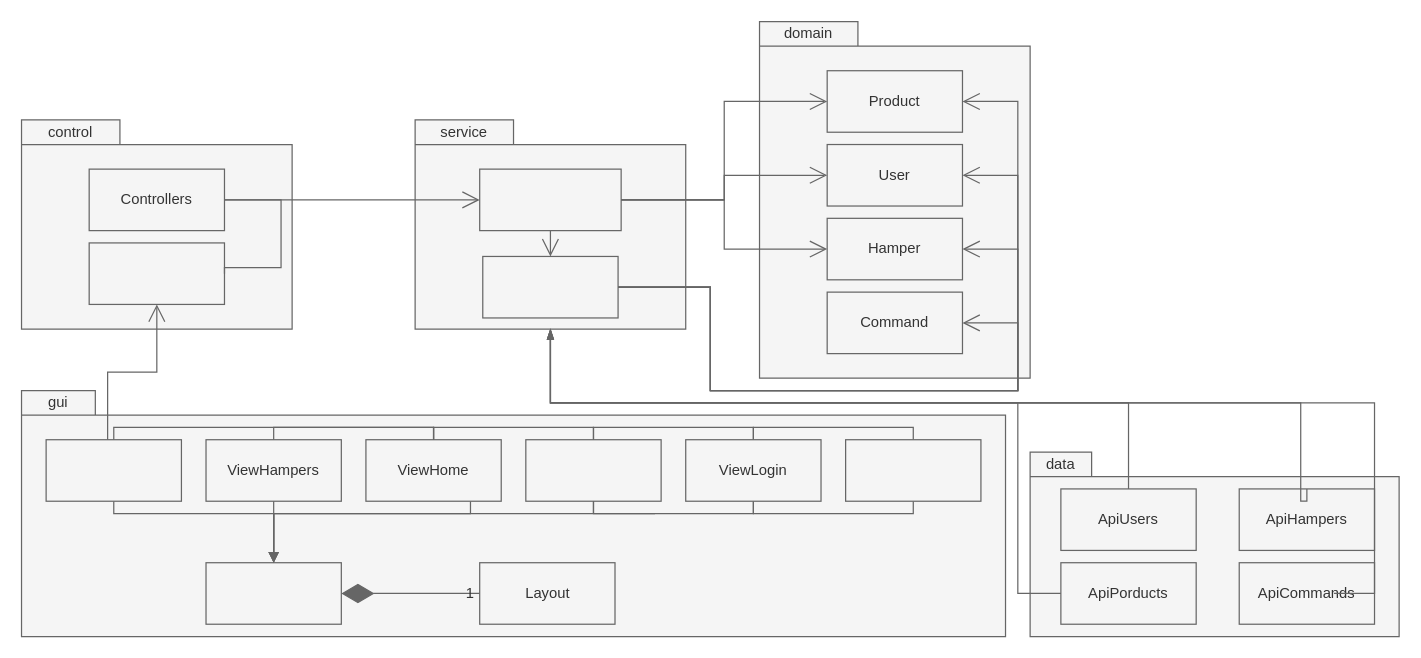
This 1421x658 diagram has some shape labels left out. Here are the shapes that lost their labels. From the top down, the centre of each, then its label:
At point (549, 199): "Checking".
At point (156, 273): "Presenter".
At point (550, 286): "«interface» DataAcces Interface".
At point (113, 469): "ViewCommands".
At point (593, 469): "ViewHomeLogout".
At point (912, 469): "ViewProducts".
At point (273, 592): "View".
